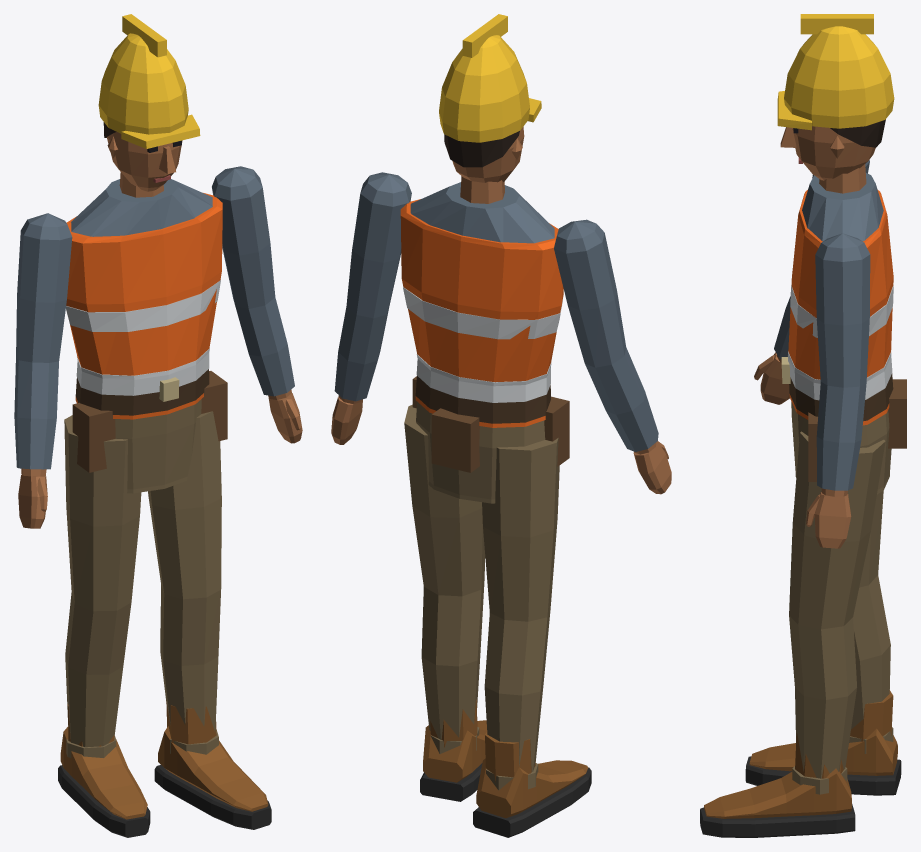
Rendered from HUMAN_06.obj.
3 views of the same model, side by side, from view 1: azimuth 30°, elevation 25°; view 2: azimuth 150°, elevation 25°; view 3: azimuth 270°, elevation 25° (orthographic). The views are drawn at different scales.
Visible parts, largest first — view 1: vest, legwear_R, legwear_L, sleeve_R, sleeve_L, headwear, shoe_L, shoe_R, pelvis_bottom, torso, accessory, belt (+4 smaller); view 2: vest, legwear_R, legwear_L, sleeve_R, sleeve_L, headwear, shoe_R, torso, shoe_L, pelvis_bottom, accessory, belt (+5 smaller); view 3: legwear_L, sleeve_L, headwear, vest, shoe_L, shoe_R, legwear_R, torso, head, hand_L, accessory, pelvis_bottom (+6 smaller).
Boxes of the visible parts, box(x1,y1,x2,y2) form: vest: box(66, 193, 222, 419); legwear_R: box(64, 415, 141, 757); legwear_L: box(148, 411, 221, 754); sleeve_R: box(14, 213, 72, 469); sleeve_L: box(212, 166, 294, 396); headwear: box(98, 14, 200, 148); shoe_L: box(154, 701, 271, 829); shoe_R: box(58, 704, 150, 837); pelvis_bottom: box(115, 399, 201, 493); torso: box(71, 179, 212, 236); accessory: box(72, 371, 227, 472); belt: box(75, 369, 209, 415); vest: box(400, 199, 563, 427); legwear_R: box(482, 438, 559, 790); legwear_L: box(404, 404, 485, 753); sleeve_R: box(554, 219, 658, 451); sleeve_L: box(334, 172, 411, 401); headwear: box(439, 14, 541, 142); shoe_R: box(473, 731, 591, 837); torso: box(410, 182, 554, 243); shoe_L: box(420, 699, 487, 801); pelvis_bottom: box(416, 402, 545, 503); accessory: box(412, 376, 569, 472); belt: box(415, 376, 550, 423); legwear_L: box(789, 431, 885, 794); sleeve_L: box(815, 233, 870, 490); headwear: box(777, 14, 894, 130); vest: box(788, 190, 893, 425); shoe_L: box(700, 733, 855, 837); shoe_R: box(745, 690, 901, 795); legwear_R: box(849, 491, 893, 753); torso: box(802, 173, 883, 241); head: box(792, 126, 875, 180); hand_L: box(806, 492, 851, 548); accessory: box(808, 379, 906, 481); pelvis_bottom: box(791, 402, 891, 494).
Size of the model in its own units: 0.7598 by 1.86 by 0.4415.
